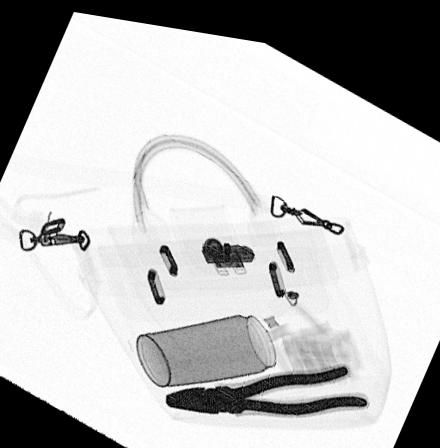Pliers: (162, 353, 370, 410)
